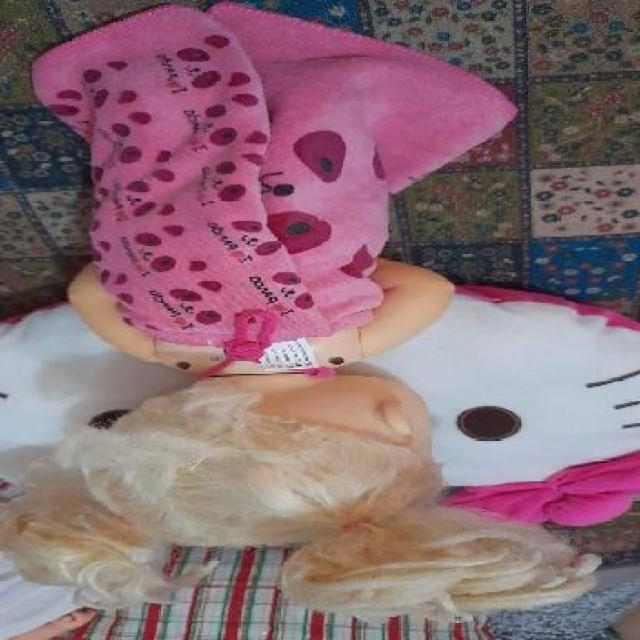non-dog: (0, 2, 639, 632)
